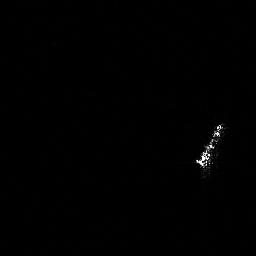ship: (191, 119, 230, 178)
